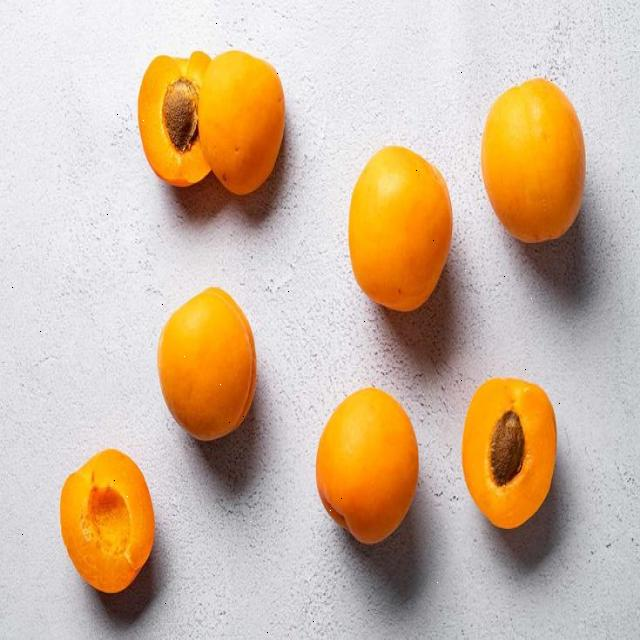kayisi: (138, 51, 286, 197), (347, 146, 455, 315), (481, 78, 587, 246), (315, 388, 420, 547), (157, 289, 258, 445), (461, 377, 558, 533), (58, 451, 156, 597)
kayisicekirdegi: (492, 409, 525, 487), (164, 79, 198, 149)
